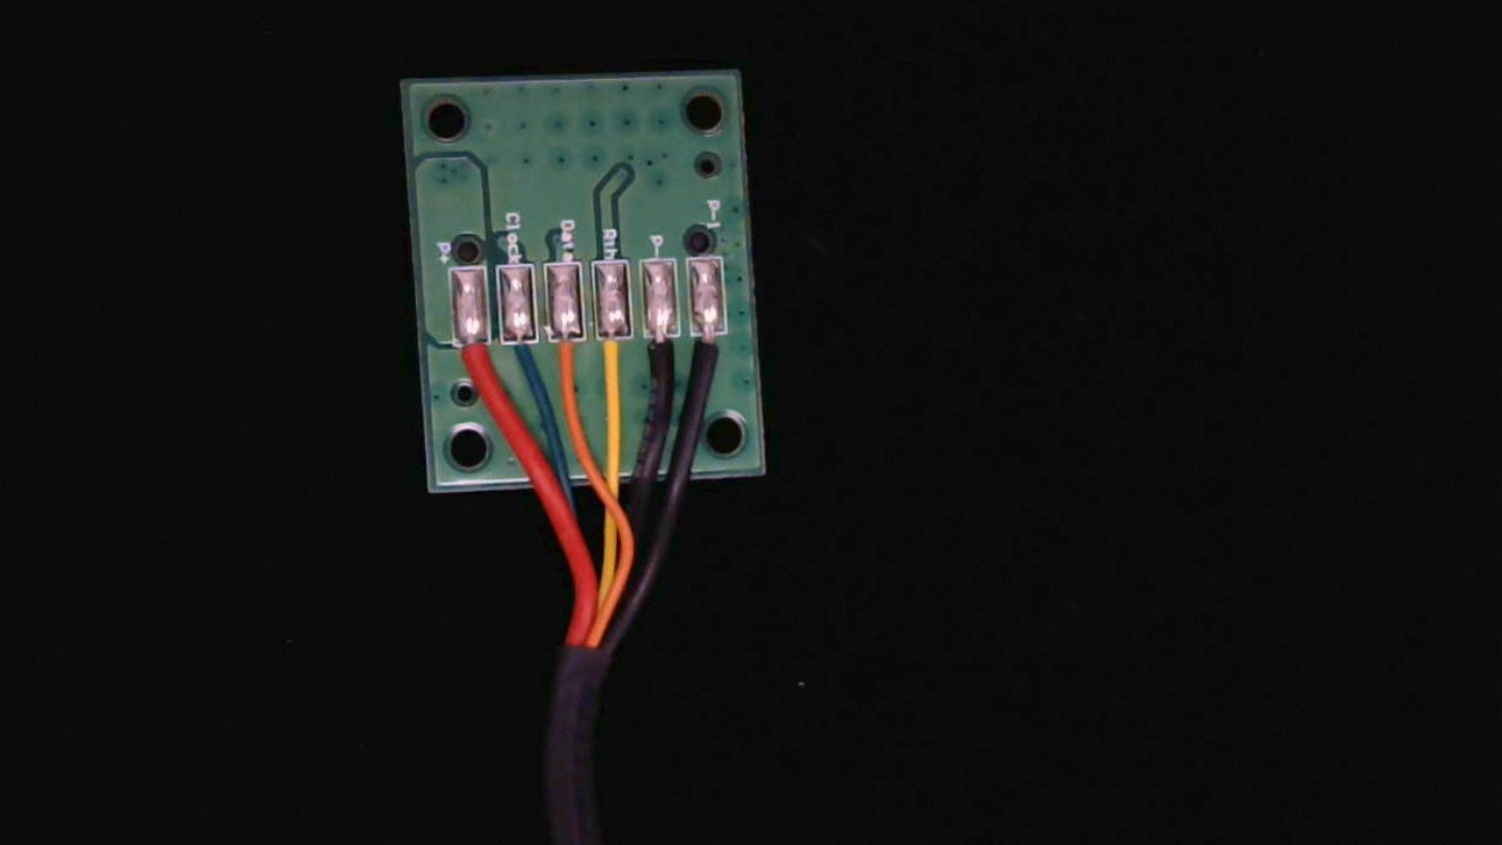Black: (642, 316, 684, 405)
Black1: (689, 316, 730, 398)
Green: (498, 318, 540, 391)
Orange: (548, 318, 588, 407)
Red: (453, 320, 494, 393)
Yellow: (594, 315, 638, 407)
